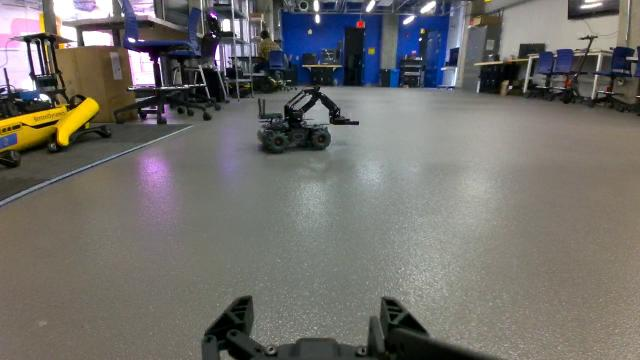robot: (254, 78, 365, 159)
